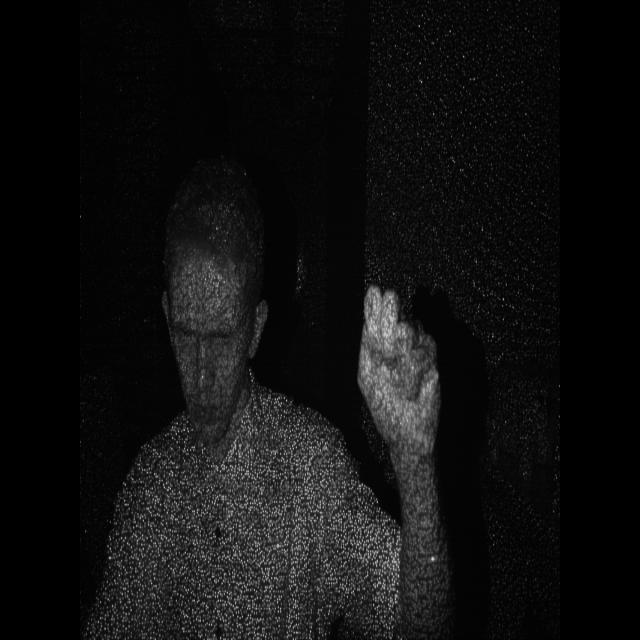N: (345, 258, 453, 490)
